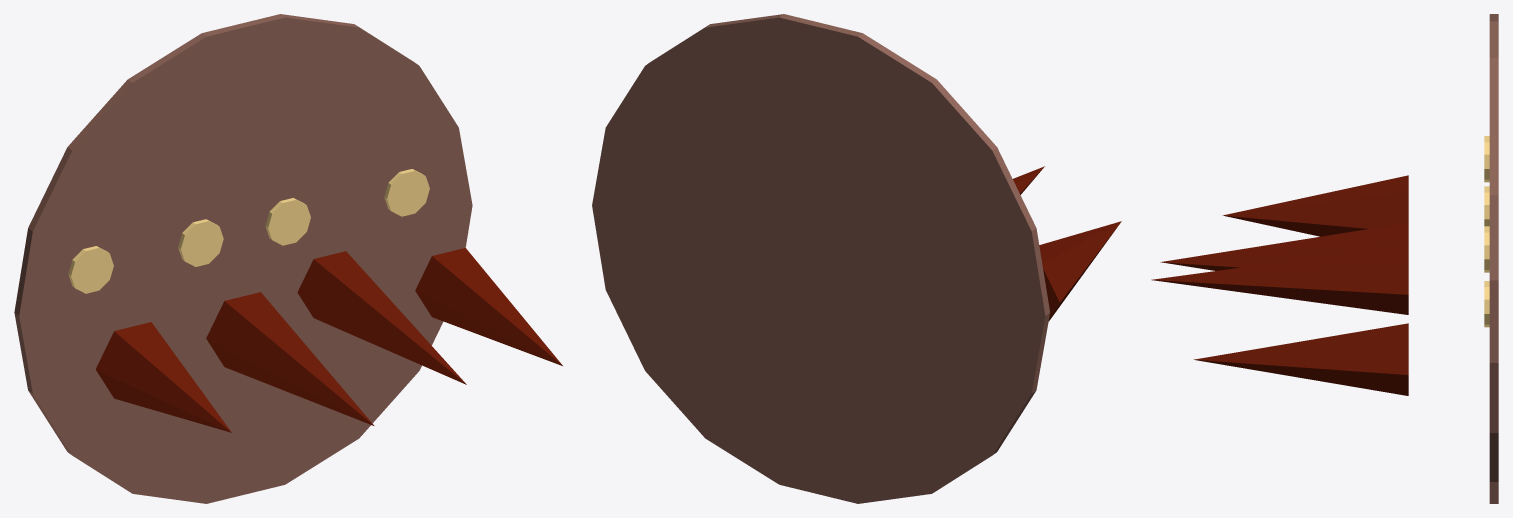
File: 02_local_prop_cluster.glb
3 views of the same model, side by side, from view 1: azimuth 30°, elevation 25°; view 2: azimuth 150°, elevation 25°; view 3: azimuth 270°, elevation 25° (orthographic). The views are drawn at different scales.
Parts seen in each view (by area): view 1: scatter_base, basalt_shard_1, basalt_shard_2, basalt_shard_0, basalt_shard_3, lava_glow_0, lava_glow_1, lava_glow_3, lava_glow_2; view 2: scatter_base, basalt_shard_0; view 3: basalt_shard_2, basalt_shard_3, basalt_shard_0, scatter_base, basalt_shard_1.
Part boxes in pixels (left/top/right/bottom): scatter_base: left=14, top=14, right=472, bottom=503; basalt_shard_1: left=206, top=292, right=374, bottom=425; basalt_shard_2: left=297, top=251, right=466, bottom=384; basalt_shard_0: left=95, top=322, right=231, bottom=432; basalt_shard_3: left=415, top=248, right=562, bottom=365; lava_glow_0: left=68, top=246, right=113, bottom=293; lava_glow_1: left=178, top=219, right=223, bottom=266; lava_glow_3: left=384, top=169, right=429, bottom=216; lava_glow_2: left=265, top=198, right=310, bottom=245; scatter_base: left=592, top=14, right=1049, bottom=503; basalt_shard_0: left=1039, top=221, right=1121, bottom=321; basalt_shard_2: left=1151, top=245, right=1408, bottom=314; basalt_shard_3: left=1194, top=323, right=1408, bottom=395; basalt_shard_0: left=1222, top=175, right=1408, bottom=236; scatter_base: left=1489, top=14, right=1498, bottom=503; basalt_shard_1: left=1160, top=222, right=1408, bottom=270.
Size of the model in its own units: 1.9 by 1.87 by 1.35.
